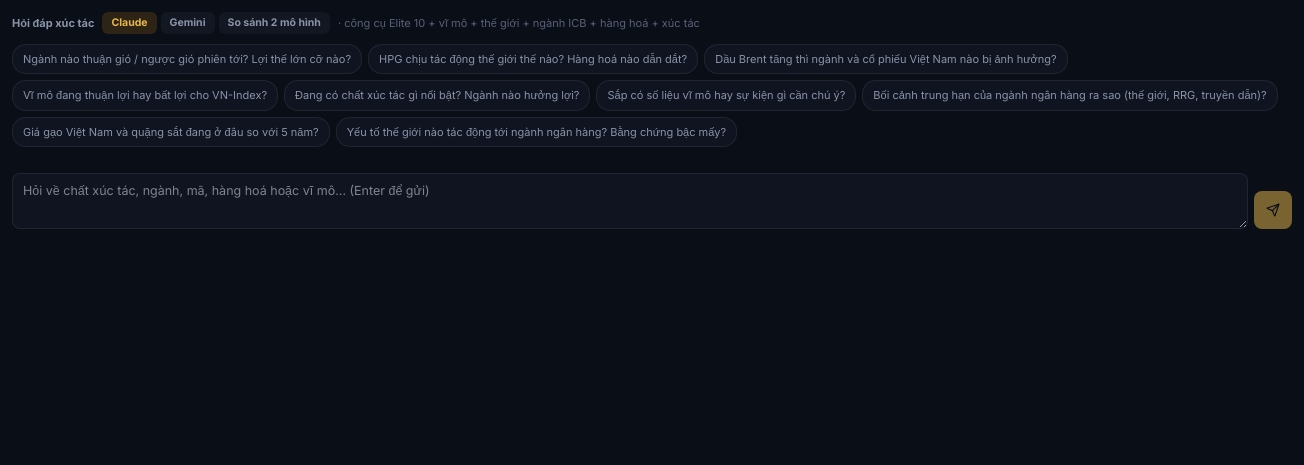
Scenario: X4 — khung chat › câu hỏi gợi ý -> biểu ngữ mô phỏng ĐẦU câu trả lời, thẻ nhiệt kế, cảnh báo số không truy được, hạn mức
Click the button "Vĩ mô đang thuận lợi hay bất lợi cho VN-Index?": [145, 96] box [12,80,278,111]
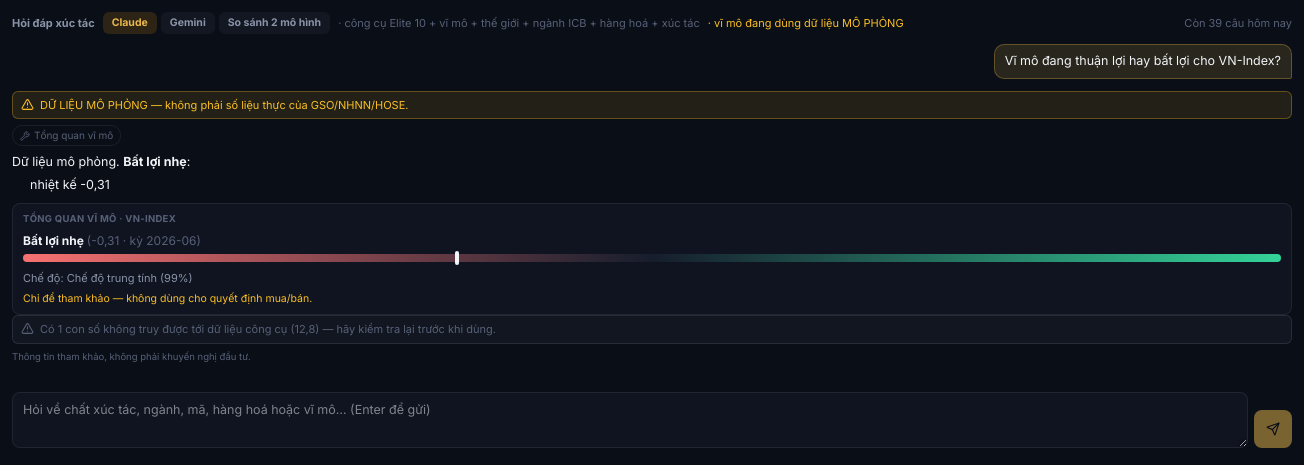
Expected: the text "Tổng quan vĩ mô · VN-Index" is shown, [23,213,176,224]
Expected: the text "Còn 39 câu hôm nay" is shown, [1184,15,1292,31]
Expected: the text "Bất lợi nhẹ" is shown, [123,154,187,169]
